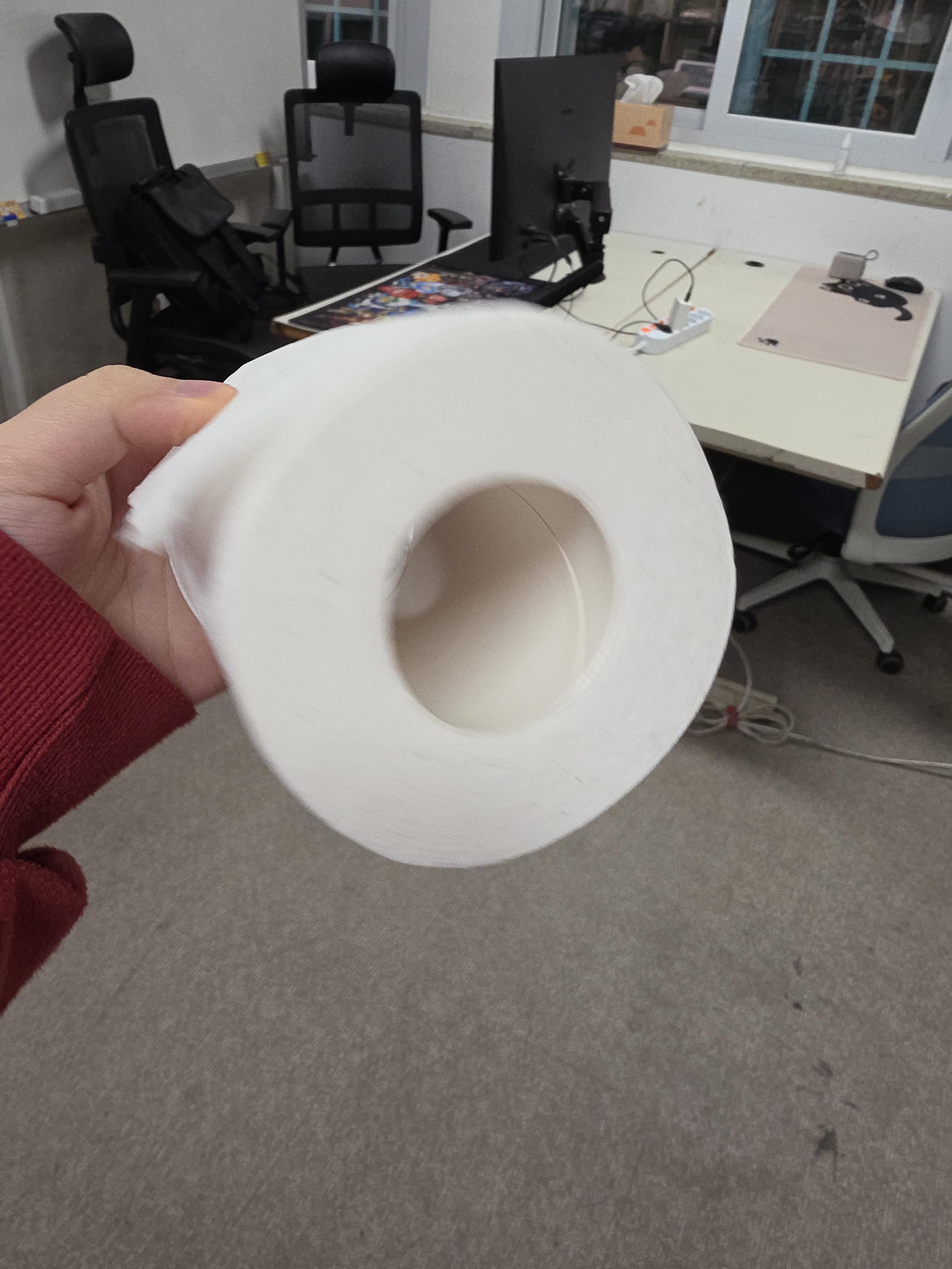tissue: (119, 300, 737, 870), (612, 73, 674, 151)
